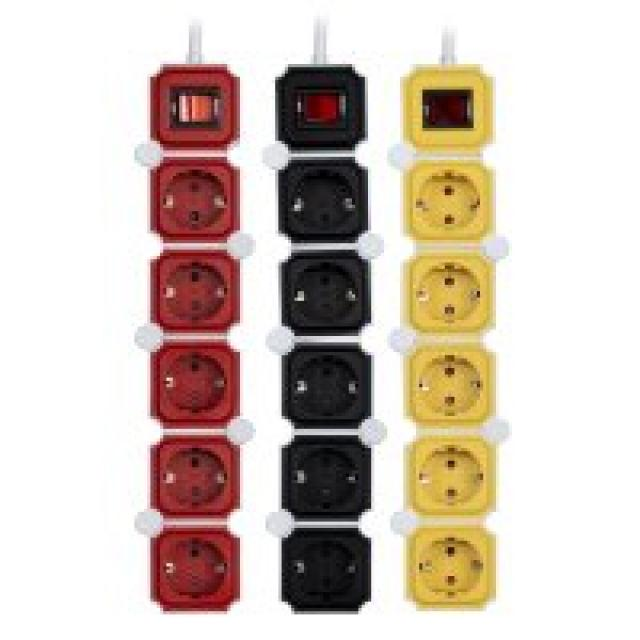typeb: (383, 55, 517, 625), (133, 49, 249, 619)
